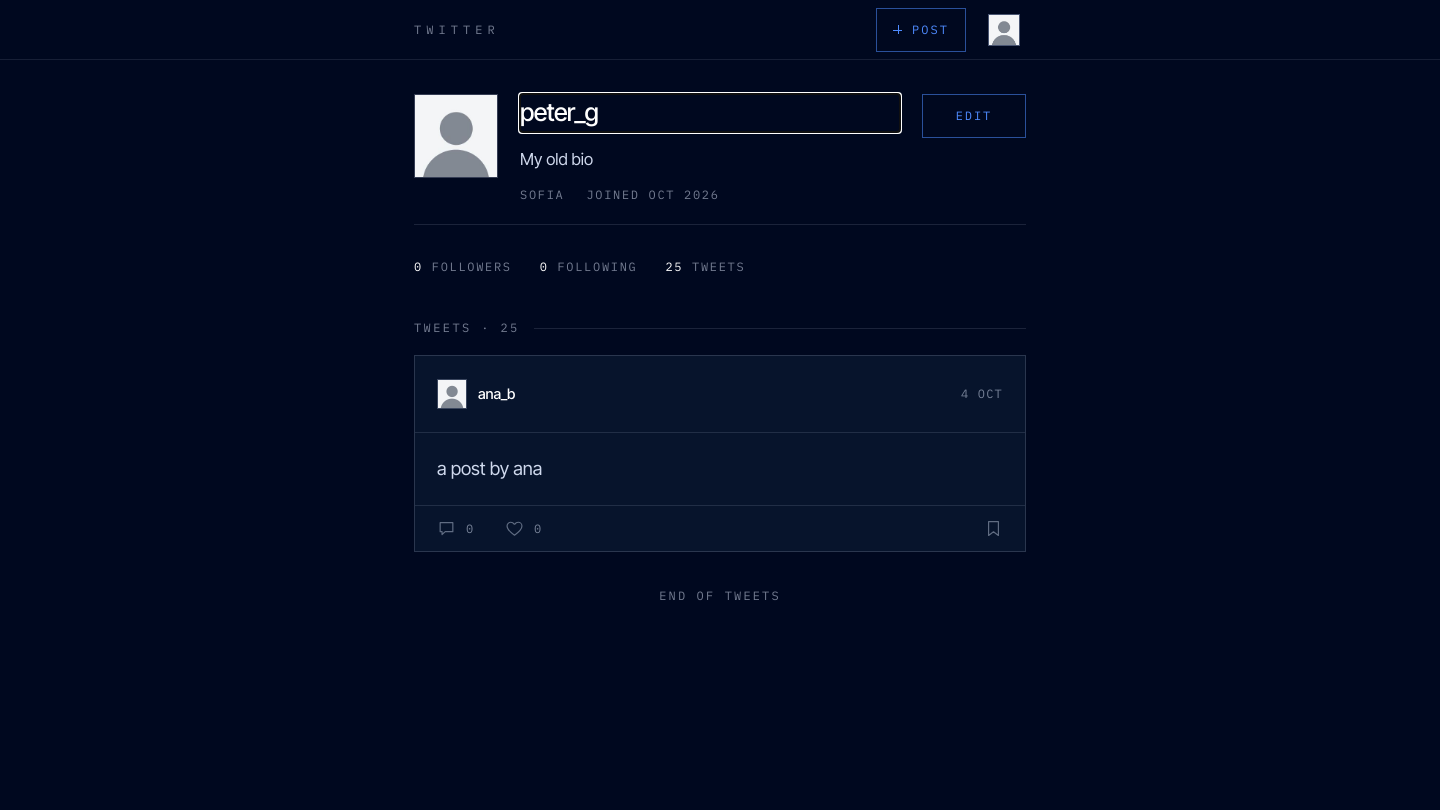
Test: the follower and following lists › should_move_the_following_count_of_the_readers_own_profile_when_someone_is_followed_from_the_list
What coordinates should you click on to do the following:
click the button "0 FOLLOWING"
I would click on:
 (589, 267)
Its box is [540,245,637,289].
Wait 1 ms
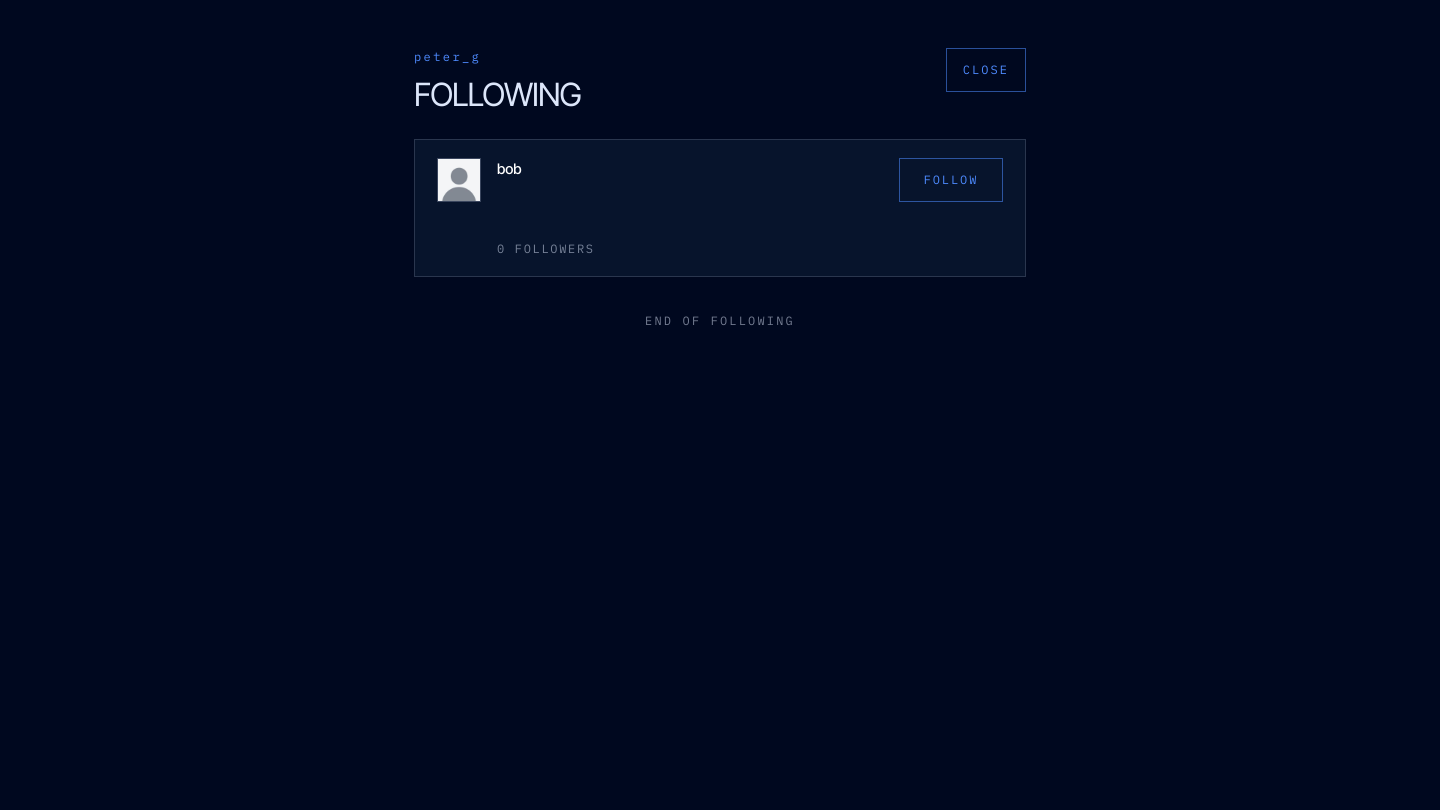
What coordinates should you click on to do the following:
click the button with aria-label "Follow bob"
I would click on:
 (951, 180)
Its box is [899,158,1003,202].
Wait 2 ms
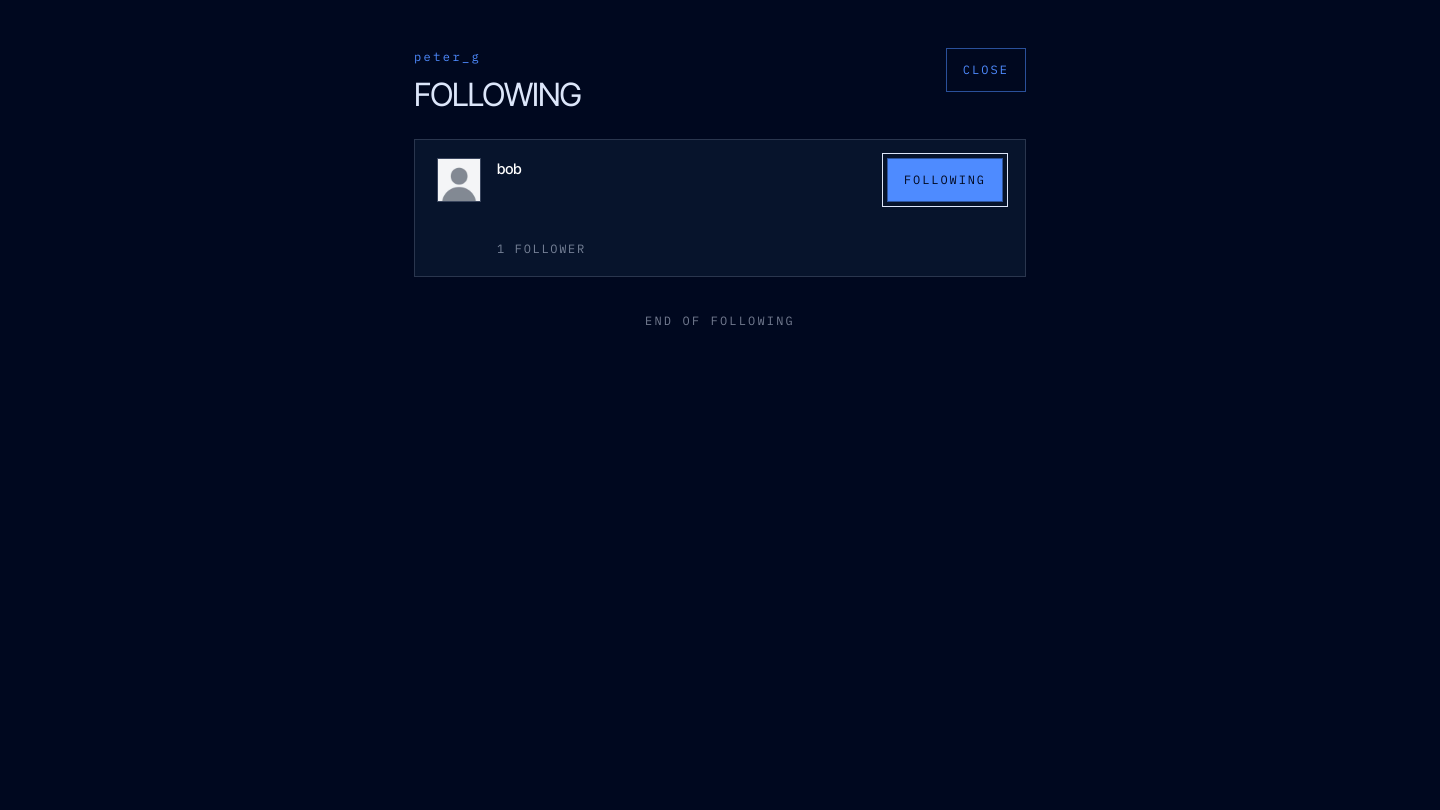
Expected: the button "1 FOLLOWING" is shown, [540,245,637,289]
